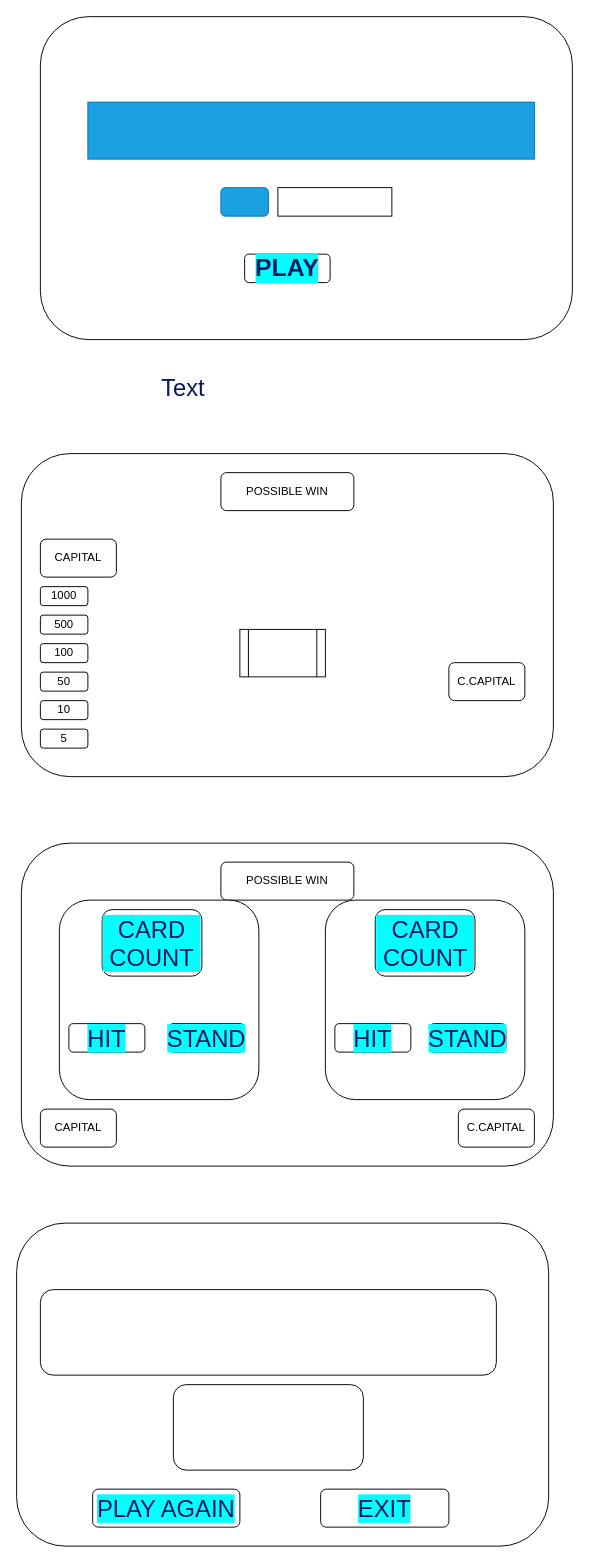
Some shapes in this 589 by 1563 pixel diagram are drawn without their labels. Here are the shapes that lost their labels. From the top down, the centre of each, then its label:
At [310,130]: "BLACK JACK ON THE WEB".
At [244,201]: "NAME".
At [282,652]: "DEAL".
At [267,1332]: "CONGRATULATIONS".
At [267,1427]: "WINNER".
